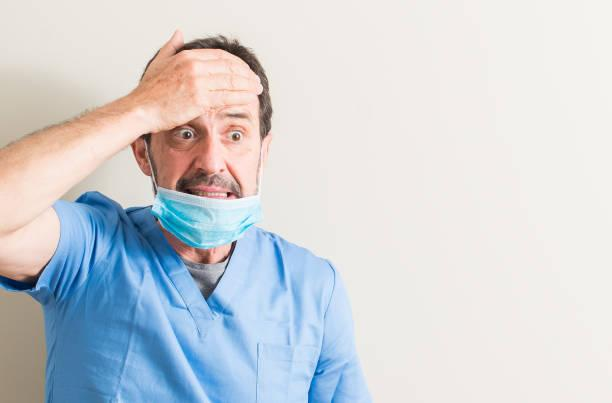mask_weared_incorrect: (146, 60, 277, 250)
